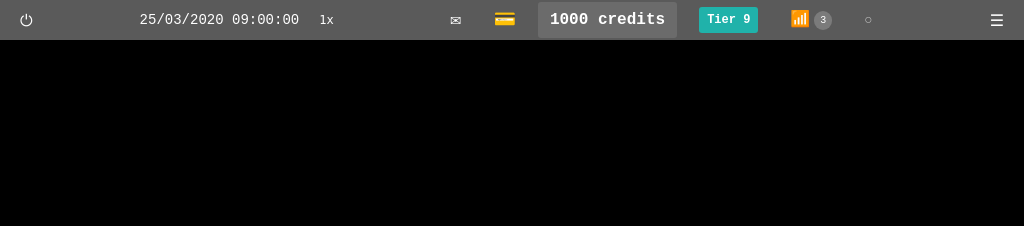
Scenario: Notification System Integration › should show network connections preview on hover
This screenshot has width=1024, height=226.
Check: the icon with class "network-icon" has style "color: #32CD32", box [790, 8, 810, 32]
Check: the text with class "network-badge" reads "3", box [820, 14, 826, 26]
# Hover to show preview
Hover over the element with class "topbar-network".
mouse_move(811, 20)  # box [790, 10, 832, 30]
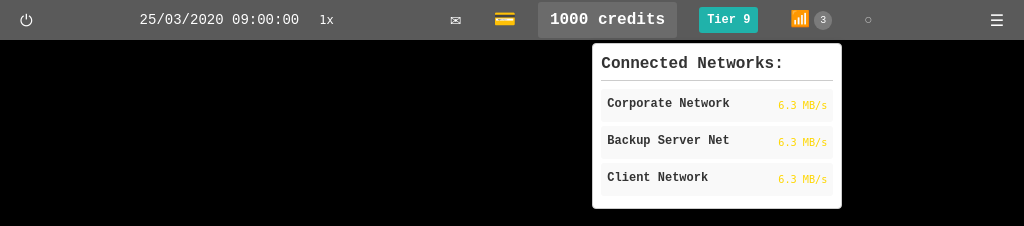
Check: the text "Connected Networks:" is shown, box [601, 52, 833, 81]
Check: the text "Corporate Network" is shown, box [607, 97, 730, 111]
Check: the text "Backup Server Net" is shown, box [607, 134, 730, 148]
